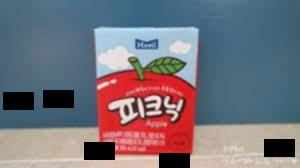picnic_apple: (94, 29, 197, 156)
